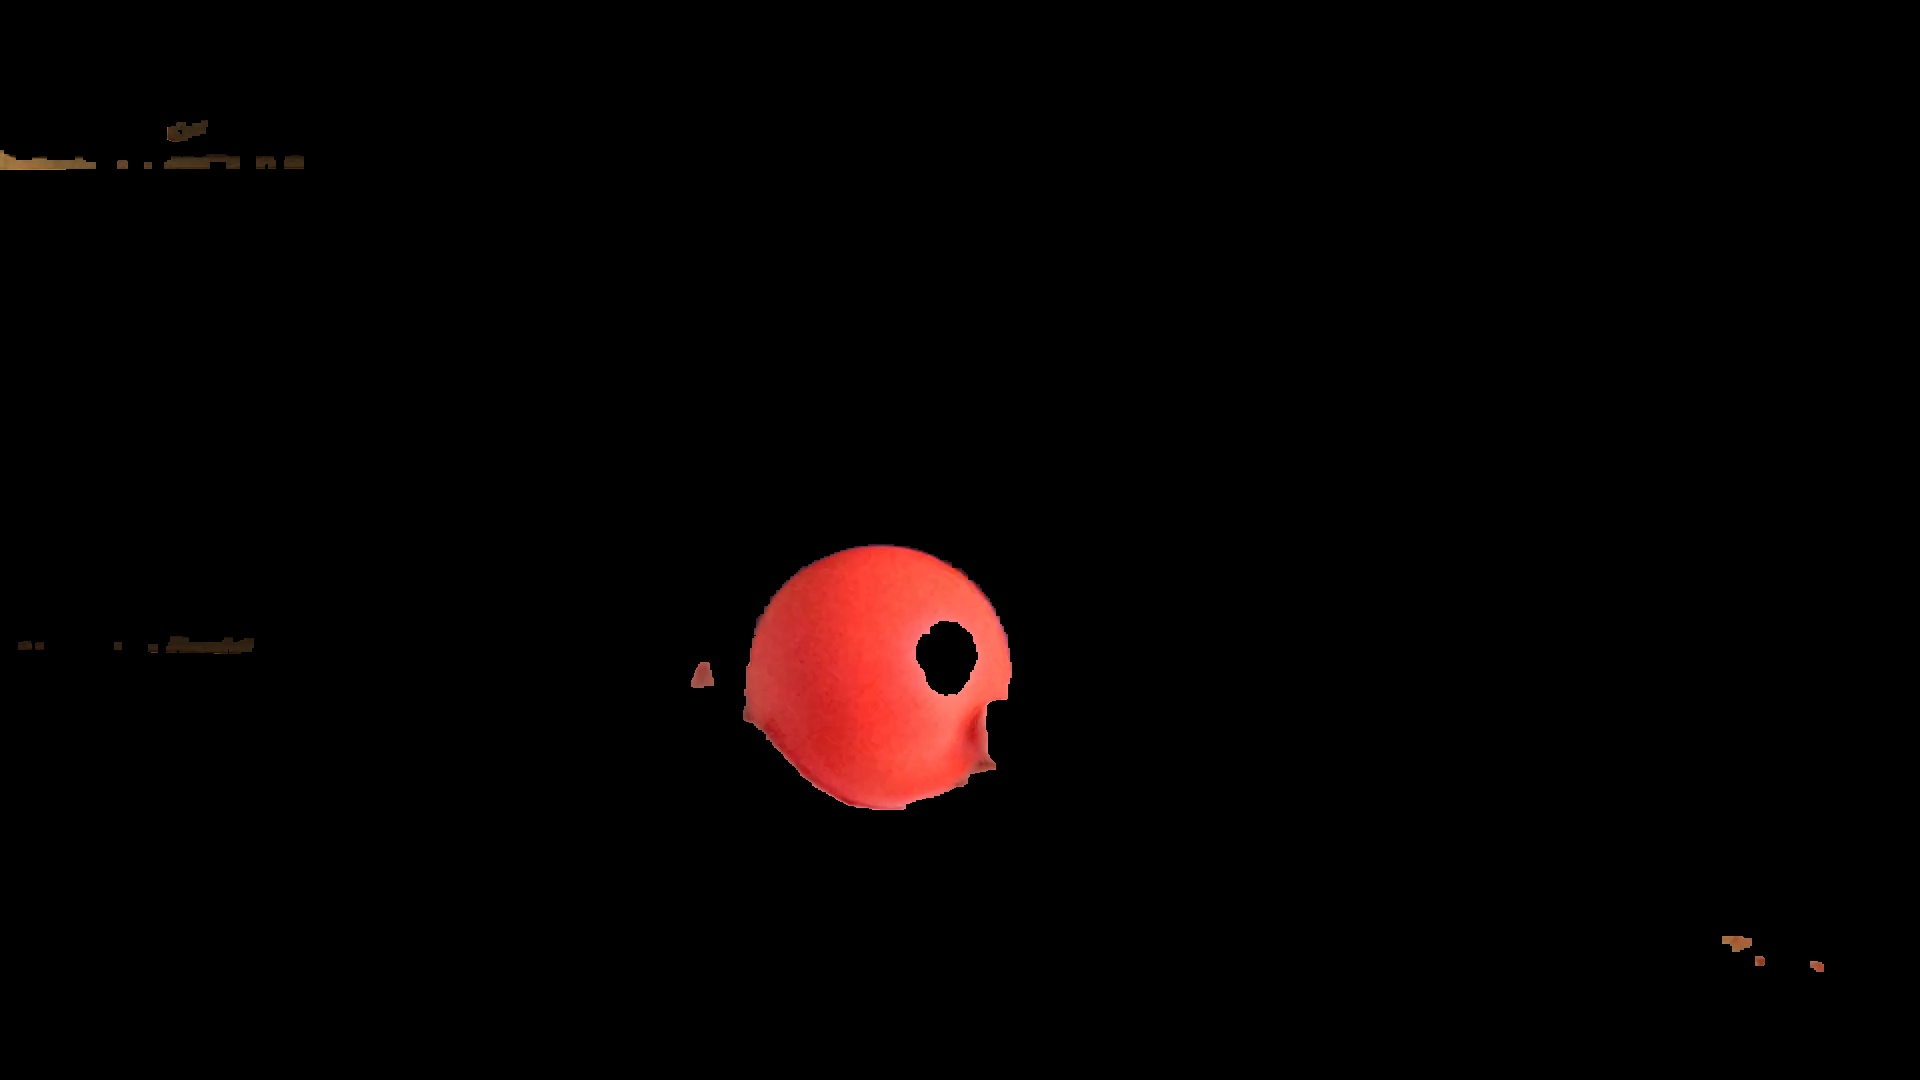Ball: (750, 541, 1019, 808)
